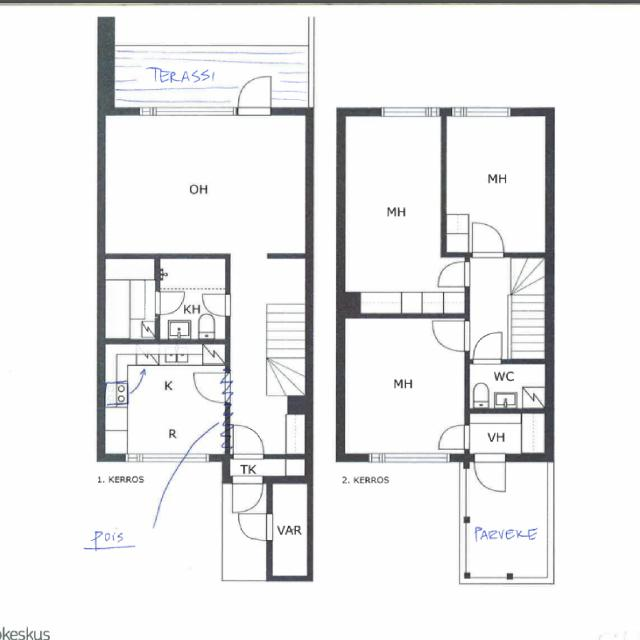door: (238, 76, 272, 115), (474, 453, 505, 491), (232, 475, 263, 512), (432, 320, 470, 350), (473, 222, 504, 257), (233, 424, 263, 458), (472, 330, 502, 364), (435, 260, 470, 288), (238, 512, 272, 540), (154, 290, 186, 315), (438, 424, 470, 449), (202, 294, 230, 316)
